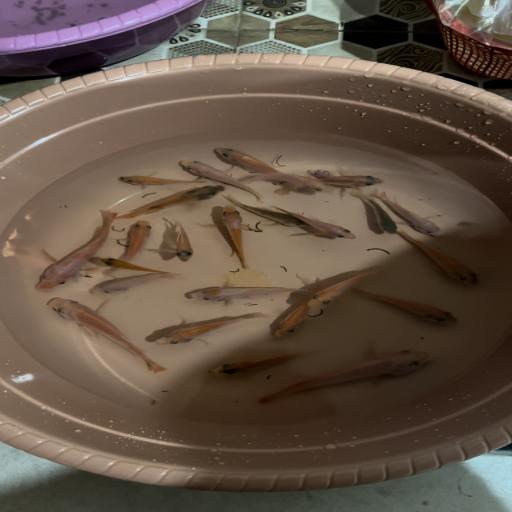nila: (250, 346, 434, 408), (40, 296, 168, 373), (28, 210, 120, 292), (392, 230, 488, 288), (153, 306, 268, 351), (172, 155, 266, 204), (203, 345, 316, 384), (303, 262, 393, 310), (122, 182, 226, 223), (360, 288, 462, 329), (262, 277, 324, 342), (372, 191, 450, 239), (274, 204, 360, 243), (337, 188, 405, 236), (223, 195, 316, 230), (180, 280, 313, 304), (215, 202, 254, 271), (85, 271, 179, 299), (206, 146, 286, 174), (242, 172, 330, 196), (116, 219, 157, 262), (112, 172, 206, 188), (167, 219, 200, 262), (94, 257, 172, 275), (314, 174, 392, 190), (307, 167, 334, 179), (273, 168, 290, 173)
